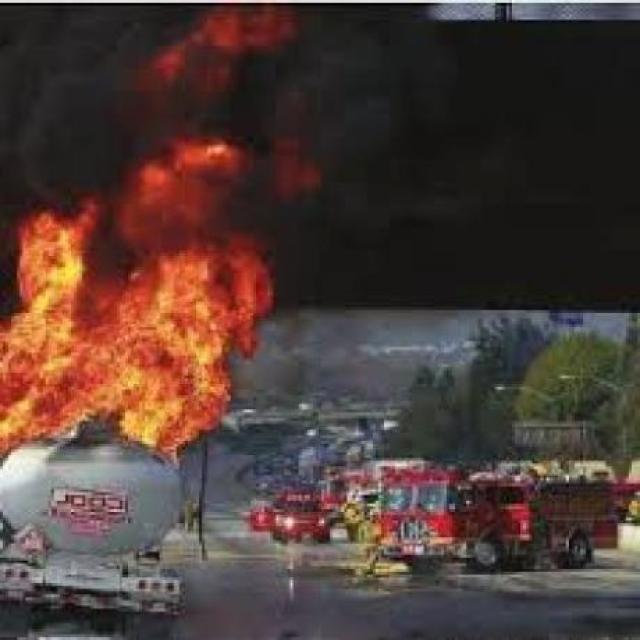Fire: (3, 141, 306, 469), (157, 13, 300, 94)
Smoke: (308, 19, 532, 250), (4, 8, 145, 202)
